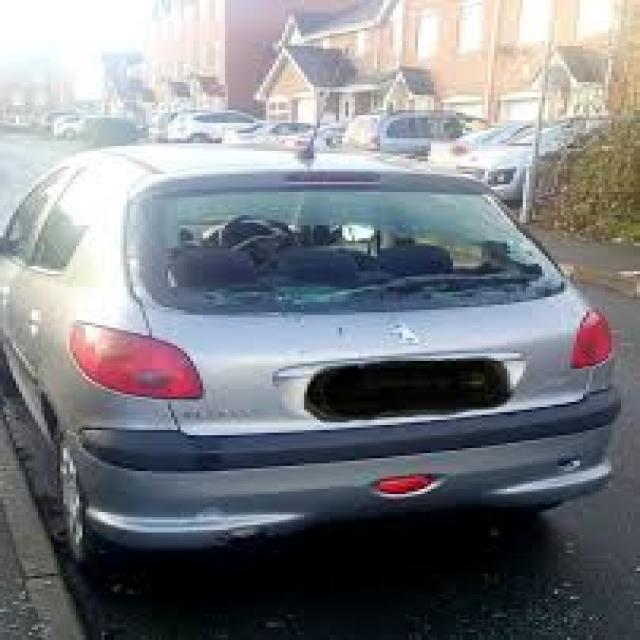damaged-rear-window: (126, 179, 566, 316)
